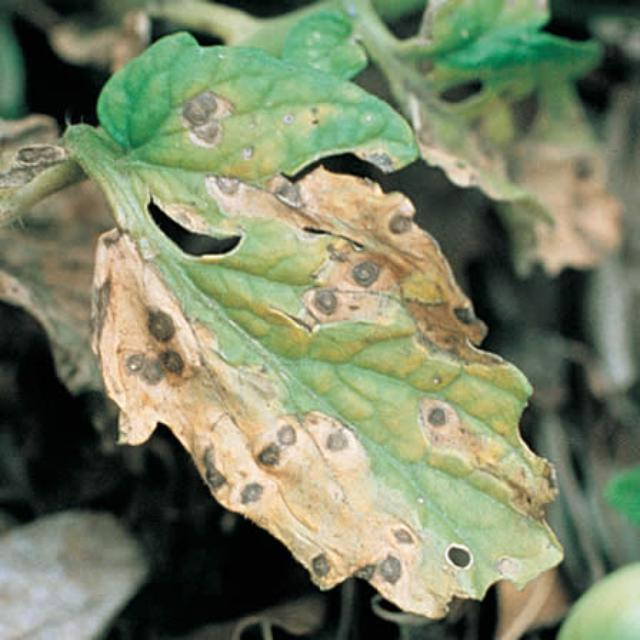Early_blight: (87, 228, 480, 618), (203, 162, 505, 371), (413, 111, 623, 280), (417, 390, 560, 523), (173, 85, 237, 152), (353, 146, 402, 176), (301, 104, 331, 131)
